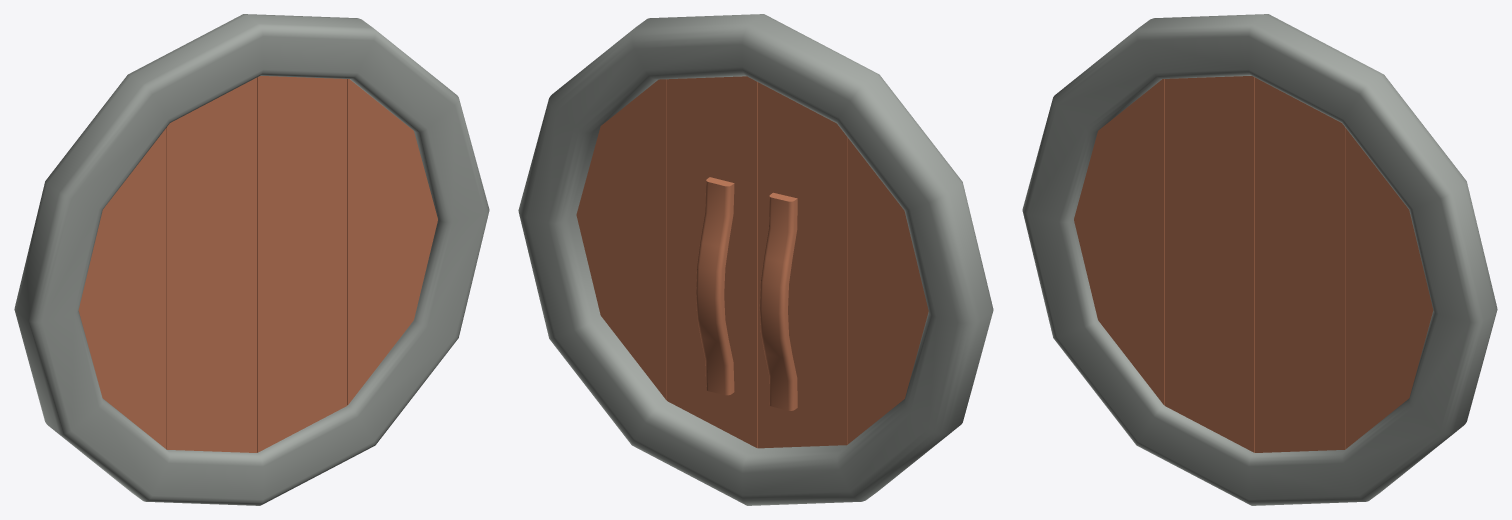
Rendered from Shield2.fbx.
The picture shows the model from 3 angles, left to right: view 1: azimuth 30°, elevation 25°; view 2: azimuth 150°, elevation 25°; view 3: azimuth 330°, elevation 25°; orthographic projection.
Parts seen in each view (by area): view 1: Circle.005; view 2: Circle.005; view 3: Circle.005.
Part boxes in pixels (x1,y1,x2,y2): Circle.005: [14, 14, 489, 505]; Circle.005: [518, 14, 993, 505]; Circle.005: [1022, 14, 1497, 505].
Bounding box in the file's own units: 39.37 × 39.37 × 4.27.
1 material, 1 textured.
